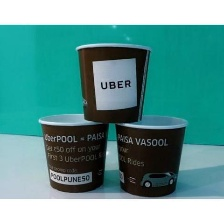paper_cup: (71, 38, 155, 127), (33, 109, 113, 196), (112, 111, 191, 198)
